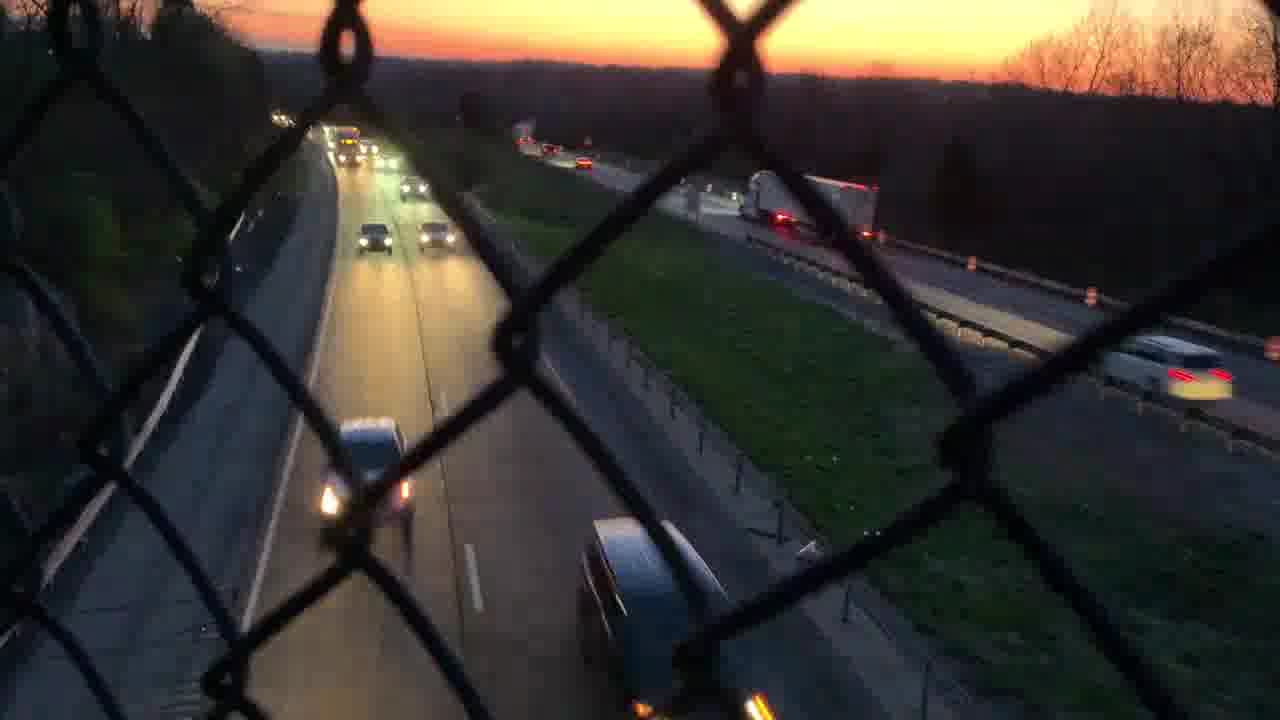heavyTruck: (742, 172, 879, 243)
largeCar: (572, 522, 778, 720), (1101, 328, 1238, 418), (322, 414, 420, 538)
smallCar: (414, 218, 457, 257), (356, 219, 396, 259)
